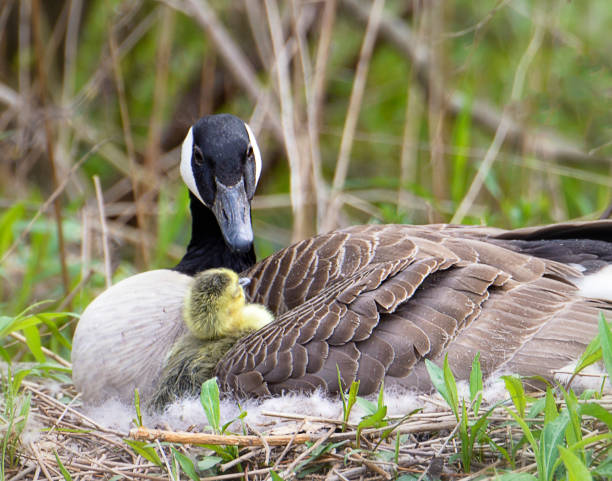goose: (67, 112, 612, 432)
